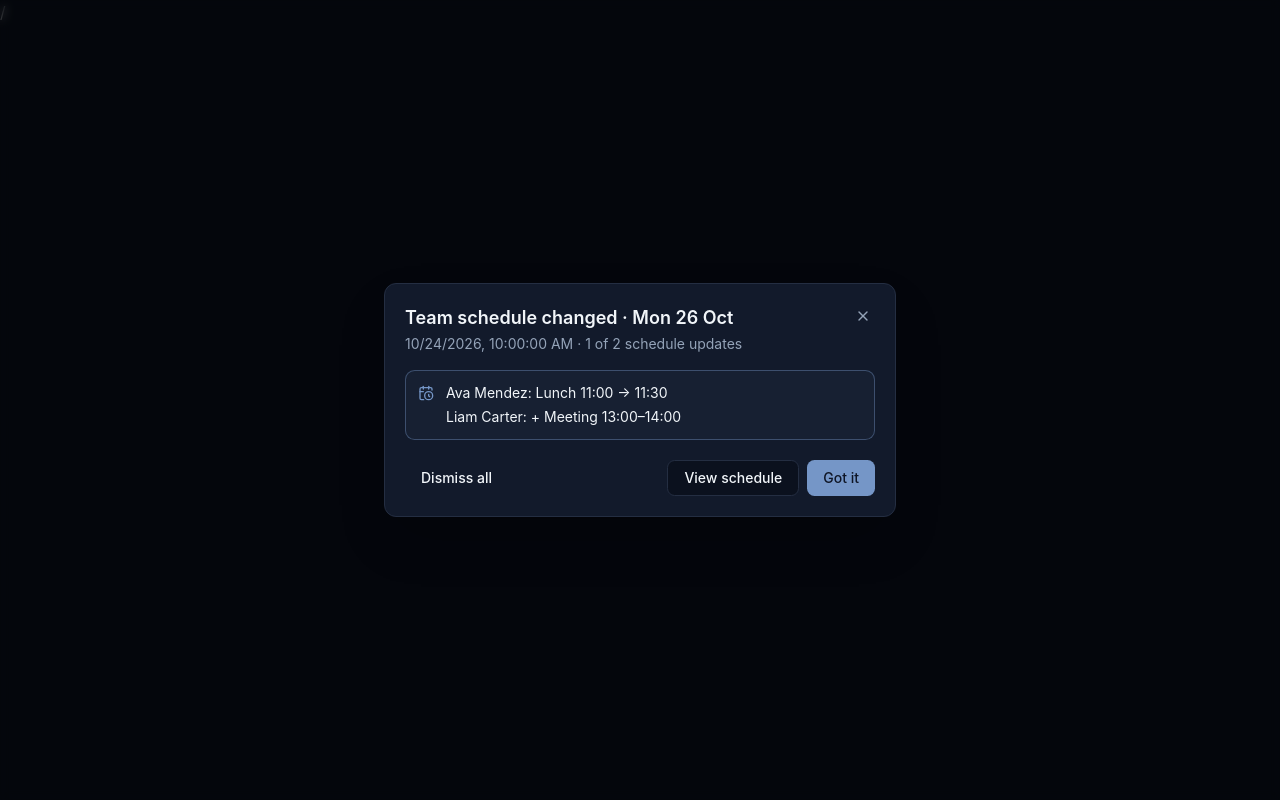
schedule change pop-up › shows a TL digest line per agent and opens the day from View schedule
expect the list items read "Ava Mendez: Lunch 11:00 → 11:30", "Liam Carter: + Meeting 13:00–14:00", in this order: met, box [446,383,681,403]; [446,407,681,427]
expect the text "10/24/2026, 10:00:00 AM · 1 of 2 schedule updates" is shown: met, box [405,334,742,354]
Click the button "View schedule" at (733, 478), box [667,460,799,496]
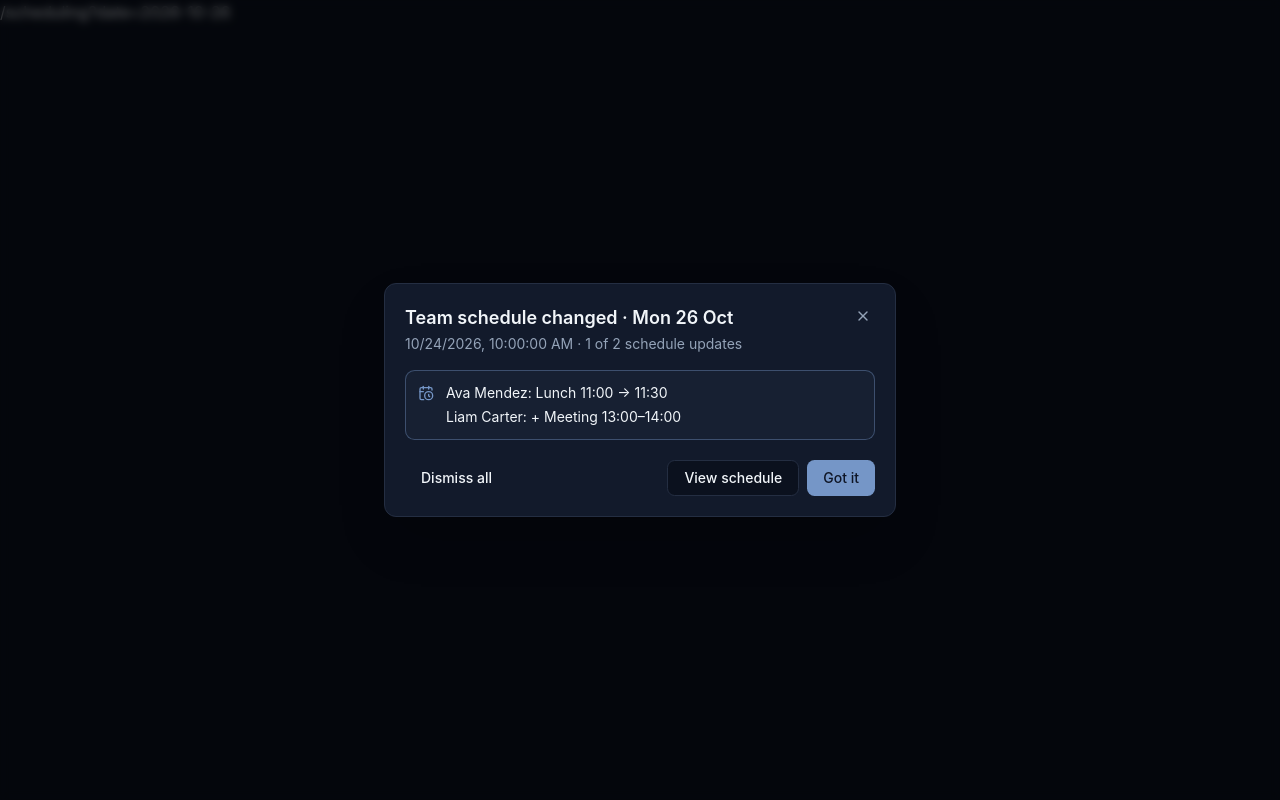
expect the text with test id "where" reads "/scheduling?date=2026-10-26": met, box [0,2,230,22]
